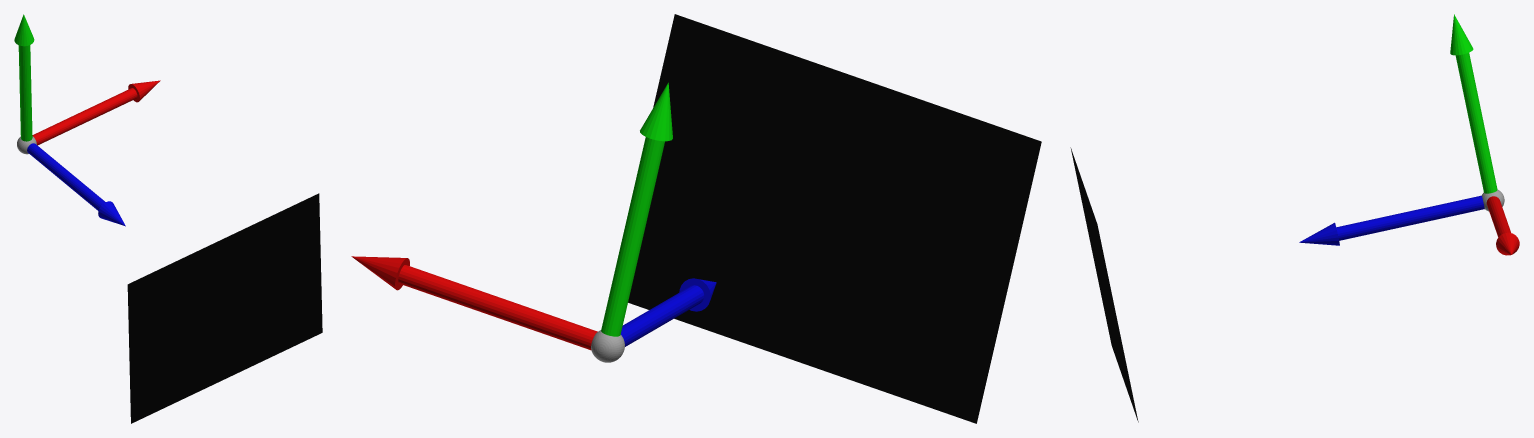
The picture shows the model from 3 angles, left to right: view 1: azimuth 30°, elevation 25°; view 2: azimuth 150°, elevation 25°; view 3: azimuth 270°, elevation 25°; orthographic projection. The views are drawn at different scales.
Bounding box in the file's own units: 0.1937 × 0.2449 × 0.2826.
